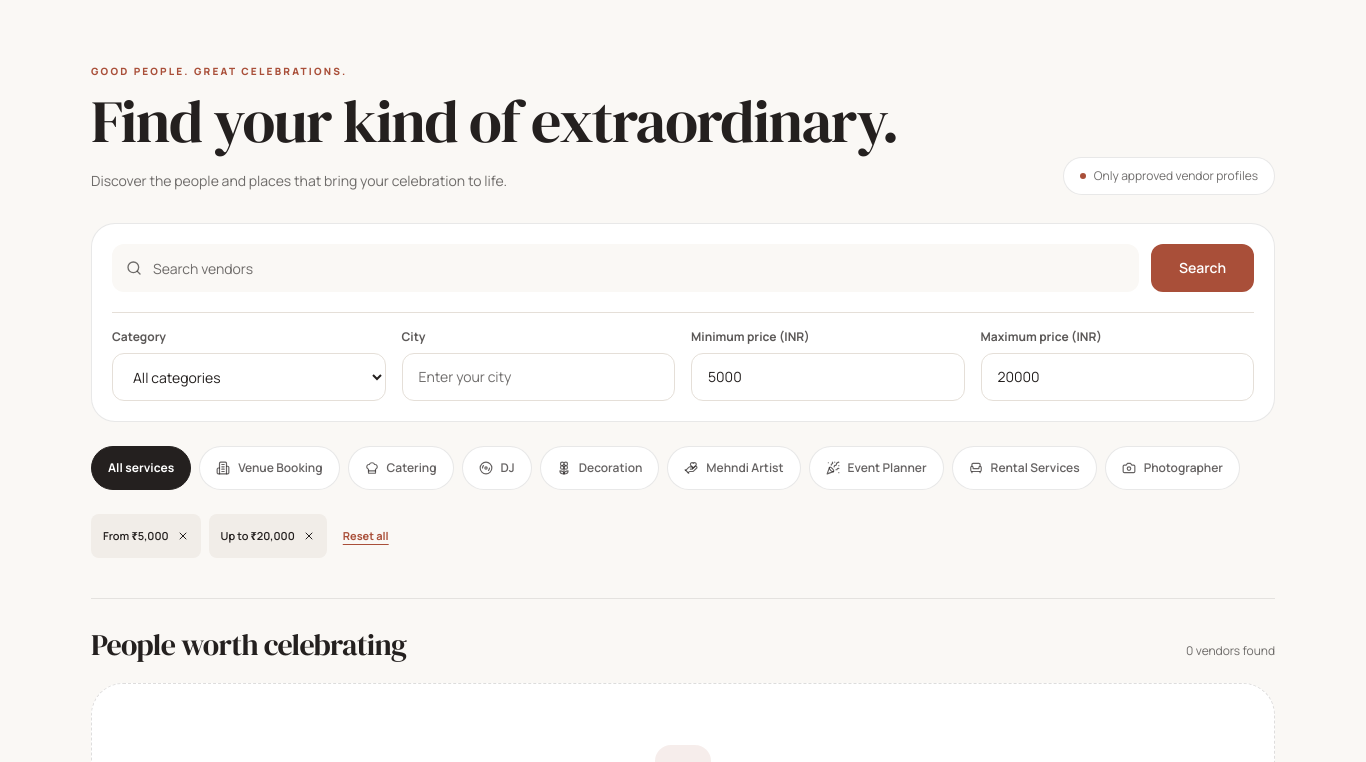
Test: vendor search › clears a validation error when a corrected search keeps the same URL
The width and height of the screenshot is (1366, 762).
Replace the text in the number field labelled "Minimum price (INR)" with "30000": (828, 377) [691,353,964,401]
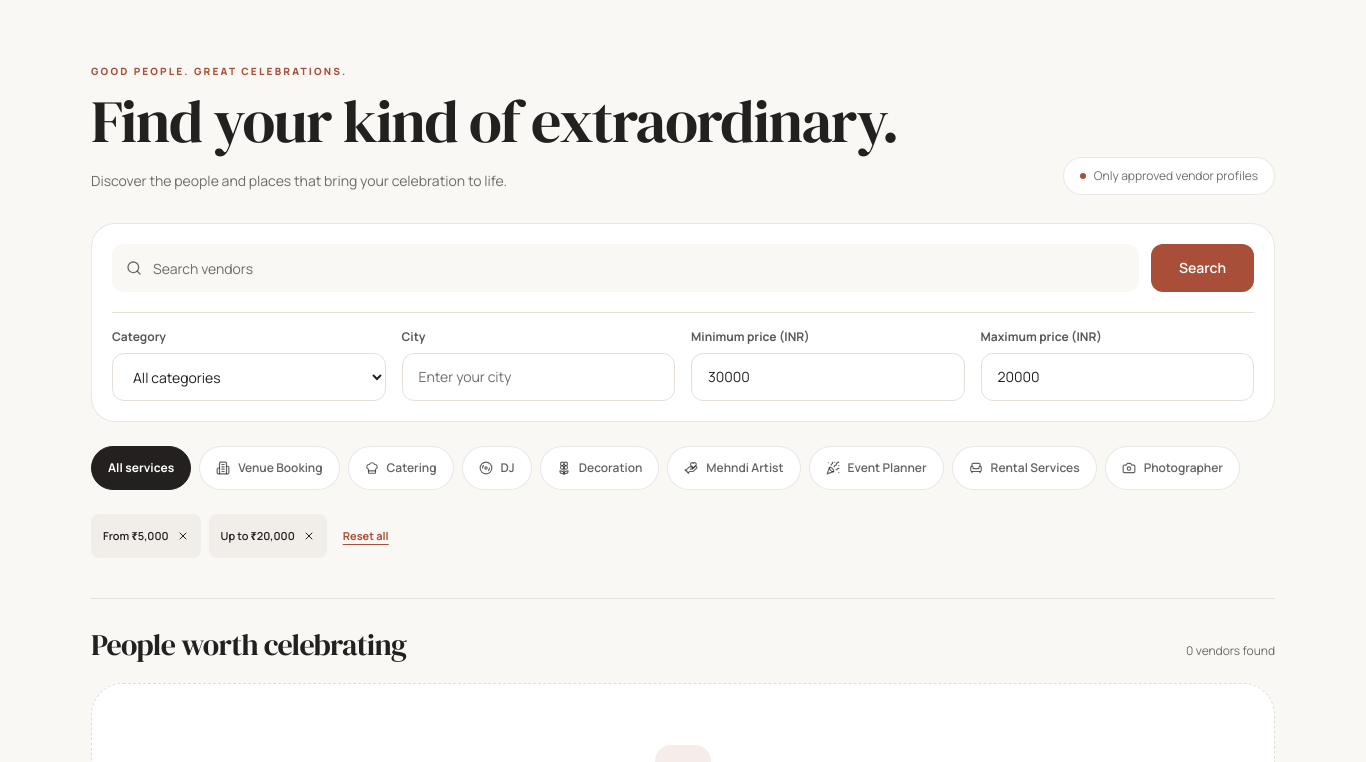
Click the button "Search": (1202, 268) [1151,244,1254,292]
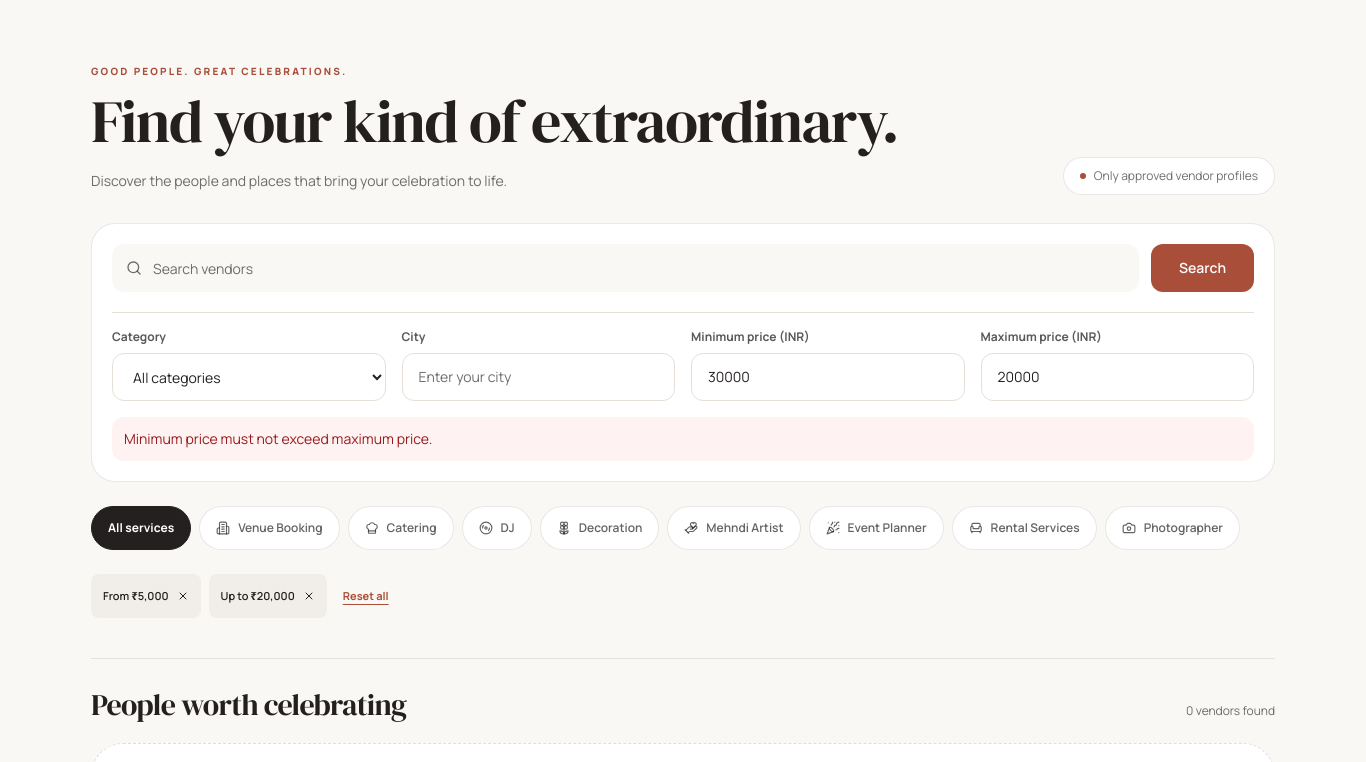
Expected: the message reads "Minimum price must not exceed maximum price.", [124,429,432,448]
Replace the text in the number field labelled "Minimum price (INR)" with "5000": (828, 377) [691,353,964,401]
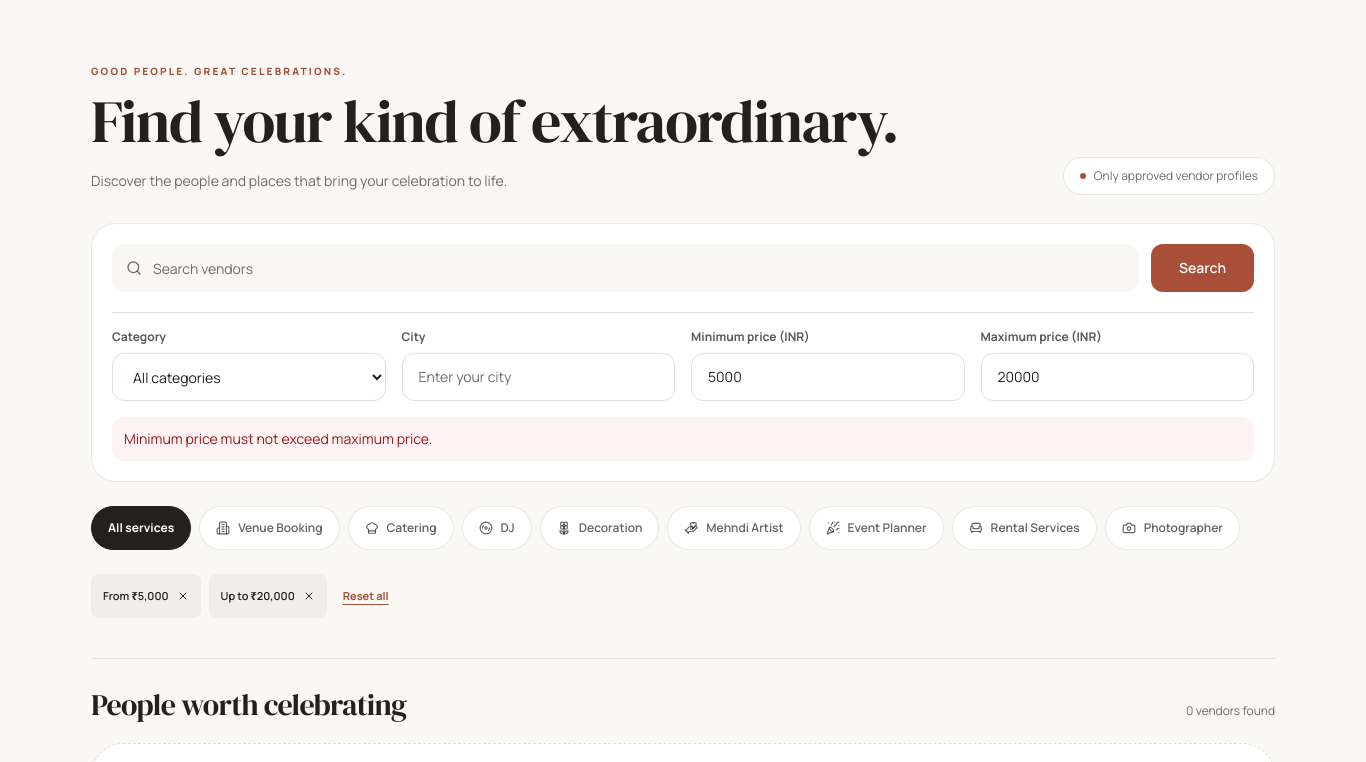
Click the button "Search": (1202, 268) [1151,244,1254,292]
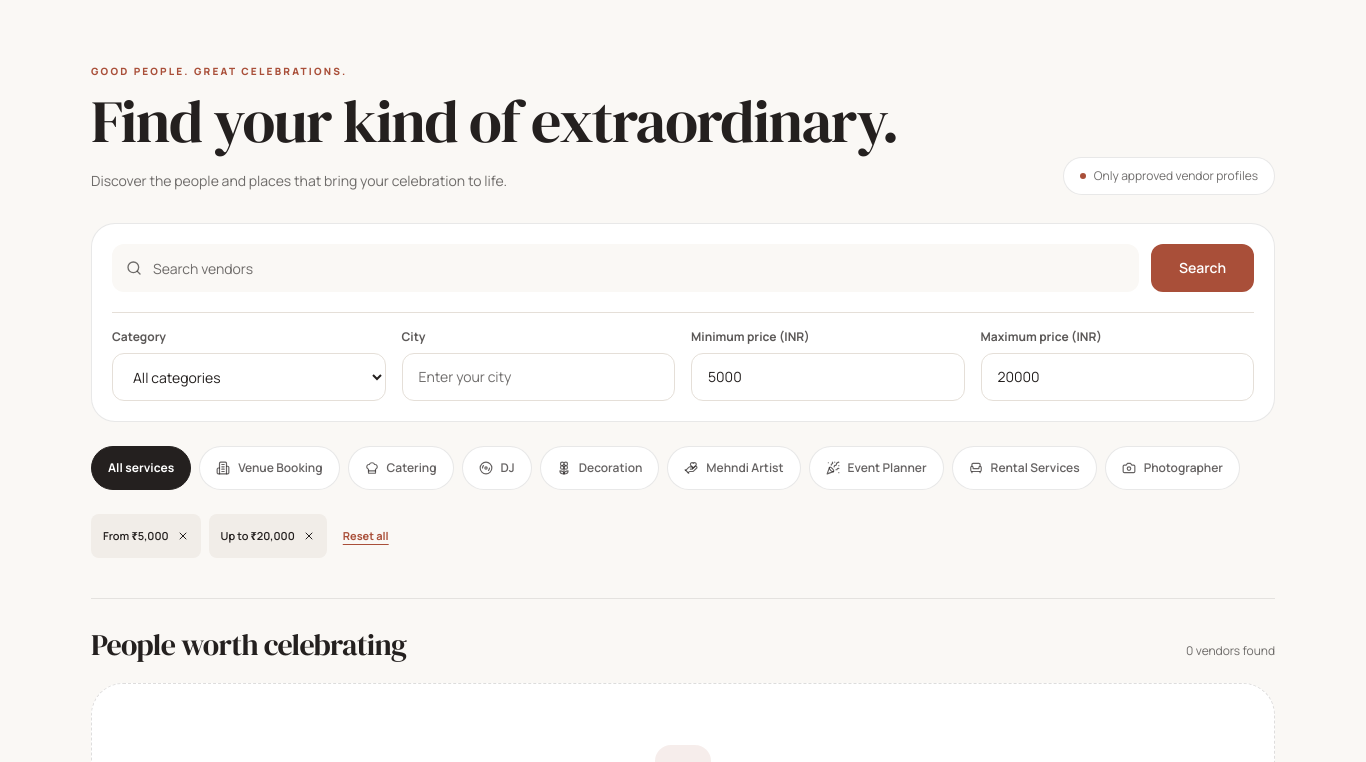
Expected: the message "Minimum price must not exceed maximum price." is gone
